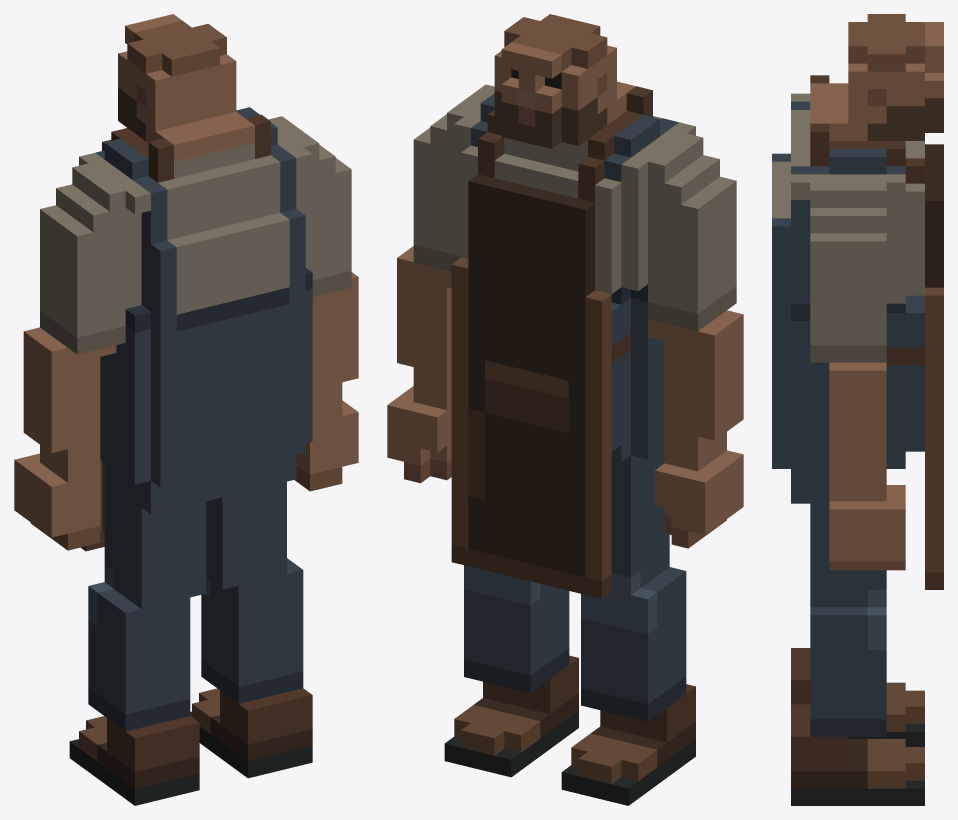
The model's file is Claude_brute.glb.
The picture shows the model from 3 angles, left to right: view 1: azimuth 30°, elevation 25°; view 2: azimuth 150°, elevation 25°; view 3: azimuth 270°, elevation 25°; orthographic projection. The views are drawn at different scales.
Visible parts, largest first — view 1: Claude_brute; view 2: Claude_brute; view 3: Claude_brute.
Boxes of the visible parts, <box> form: Claude_brute: <box>14,14,358,805</box>; Claude_brute: <box>387,14,743,805</box>; Claude_brute: <box>772,14,943,805</box>.
Size of the model in its own units: 0.95 by 2.1 by 0.45.
